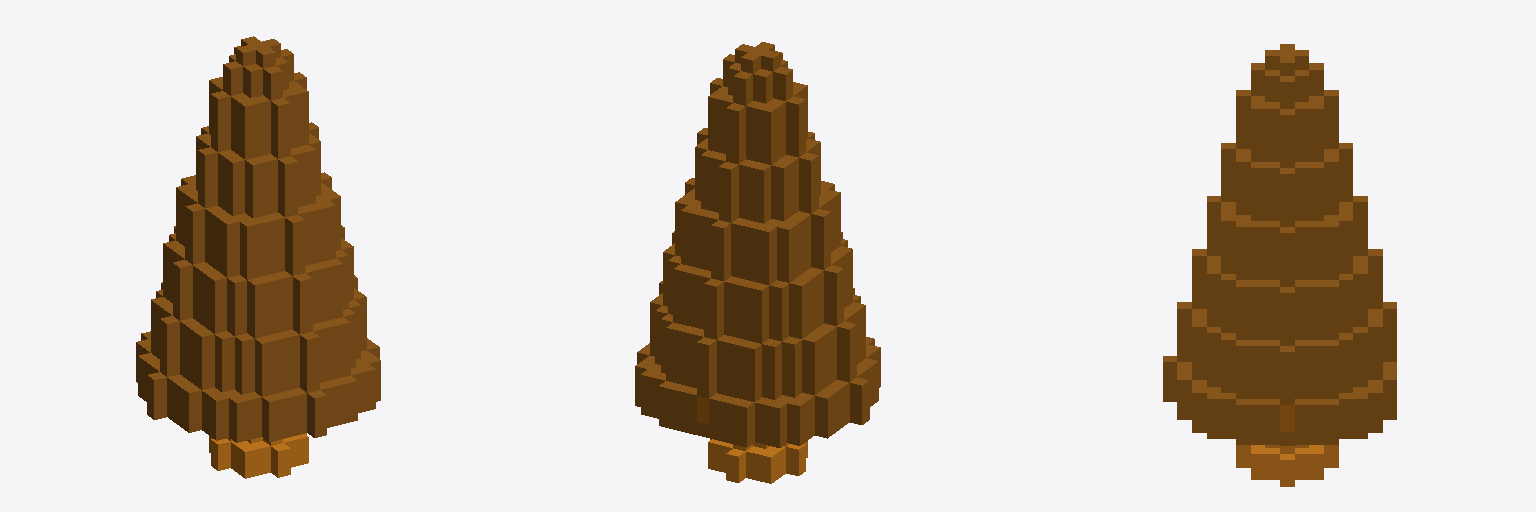
3 views of the same model, side by side, from view 1: azimuth 30°, elevation 25°; view 2: azimuth 150°, elevation 25°; view 3: azimuth 270°, elevation 25° (orthographic).
Size of the model in its own units: 16 by 31 by 16.
Materials: 1 (1 with a texture image).